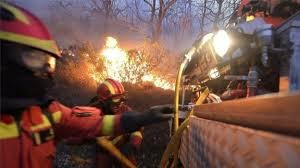fire: (85, 34, 175, 91)
